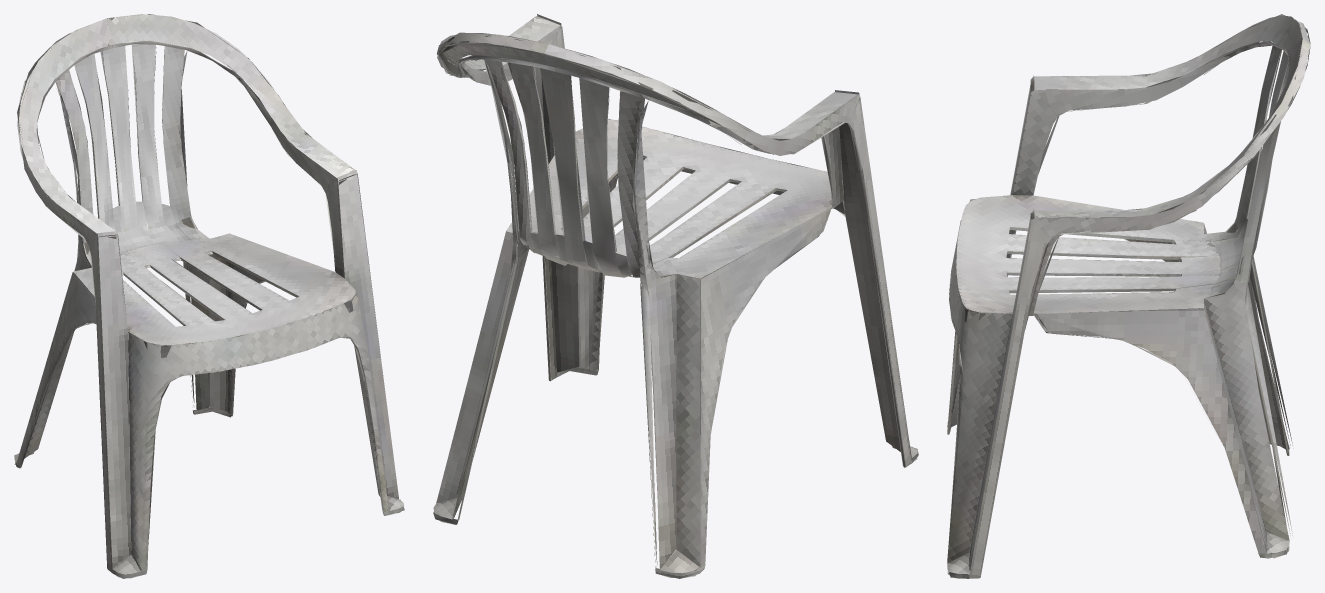
The model's file is plastic_monobloc_chair_01.glb.
The picture shows the model from 3 angles, left to right: view 1: azimuth 30°, elevation 25°; view 2: azimuth 150°, elevation 25°; view 3: azimuth 270°, elevation 25°; orthographic projection. The views are drawn at different scales.
Parts seen in each view (by area): view 1: plastic_monobloc_chair_01; view 2: plastic_monobloc_chair_01; view 3: plastic_monobloc_chair_01.
Part boxes in pixels (<box>): plastic_monobloc_chair_01: <box>14,14,404,578</box>; plastic_monobloc_chair_01: <box>433,14,918,578</box>; plastic_monobloc_chair_01: <box>947,14,1310,578</box>.
Bounding box in the file's own units: 0.6455 × 0.8811 × 0.6284.
Materials: 1 (1 with a texture image).
